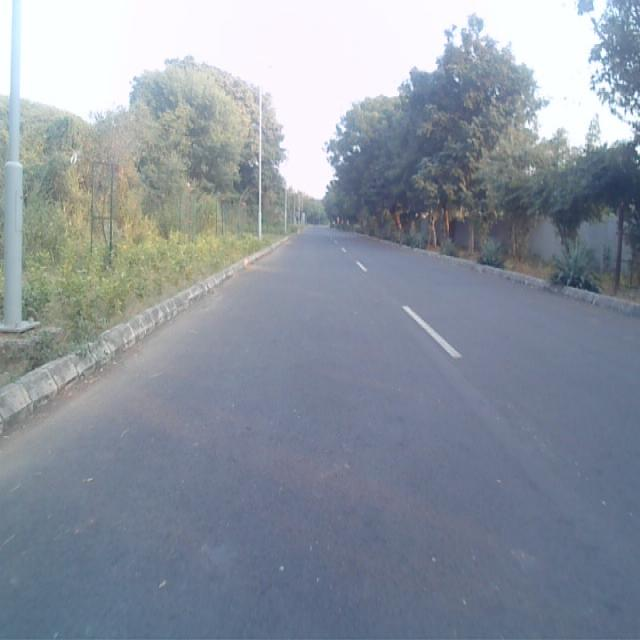lane: (0, 229, 640, 640)
